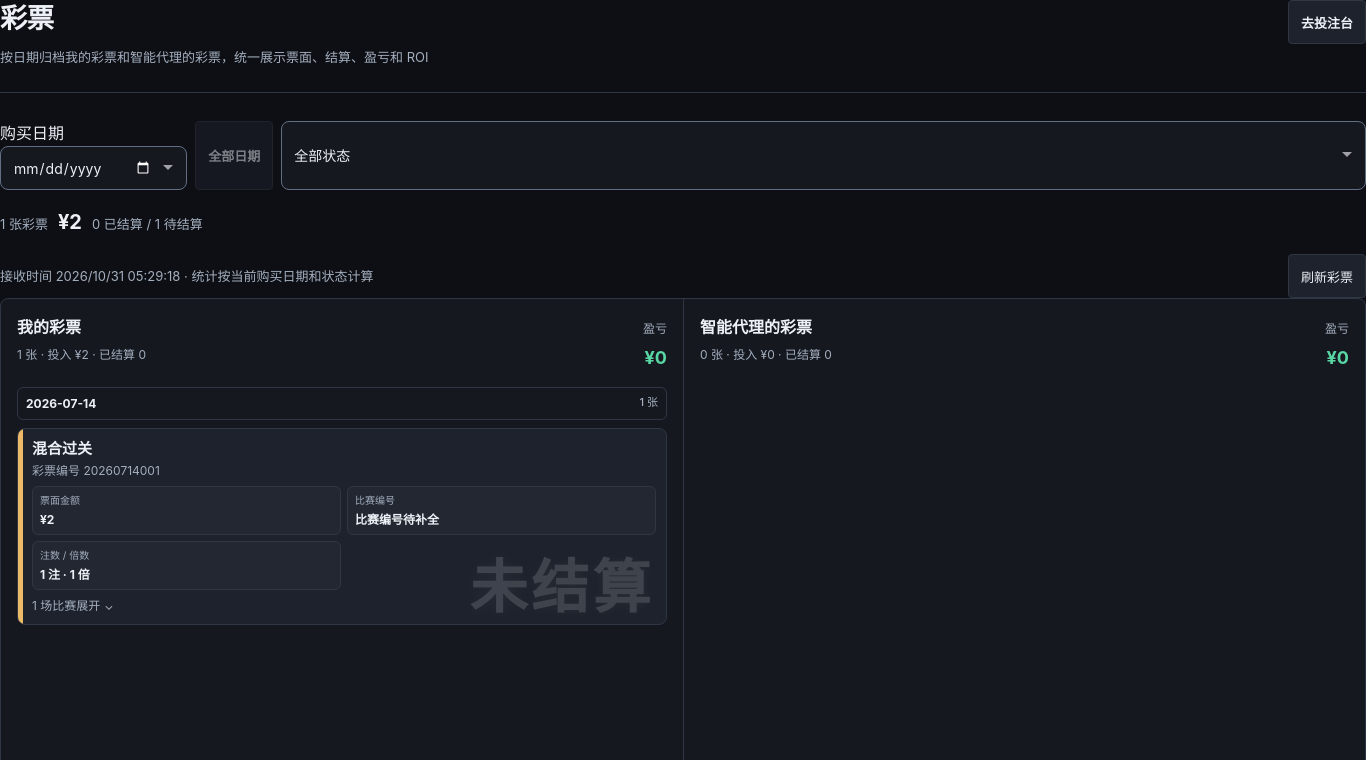
Test: TicketsPage query evidence › 坏分页统计被拒绝并保留旧票
This screenshot has width=1366, height=760.
Click the button "刷新彩票".
click(1327, 276)  # box [1288,254,1365,298]
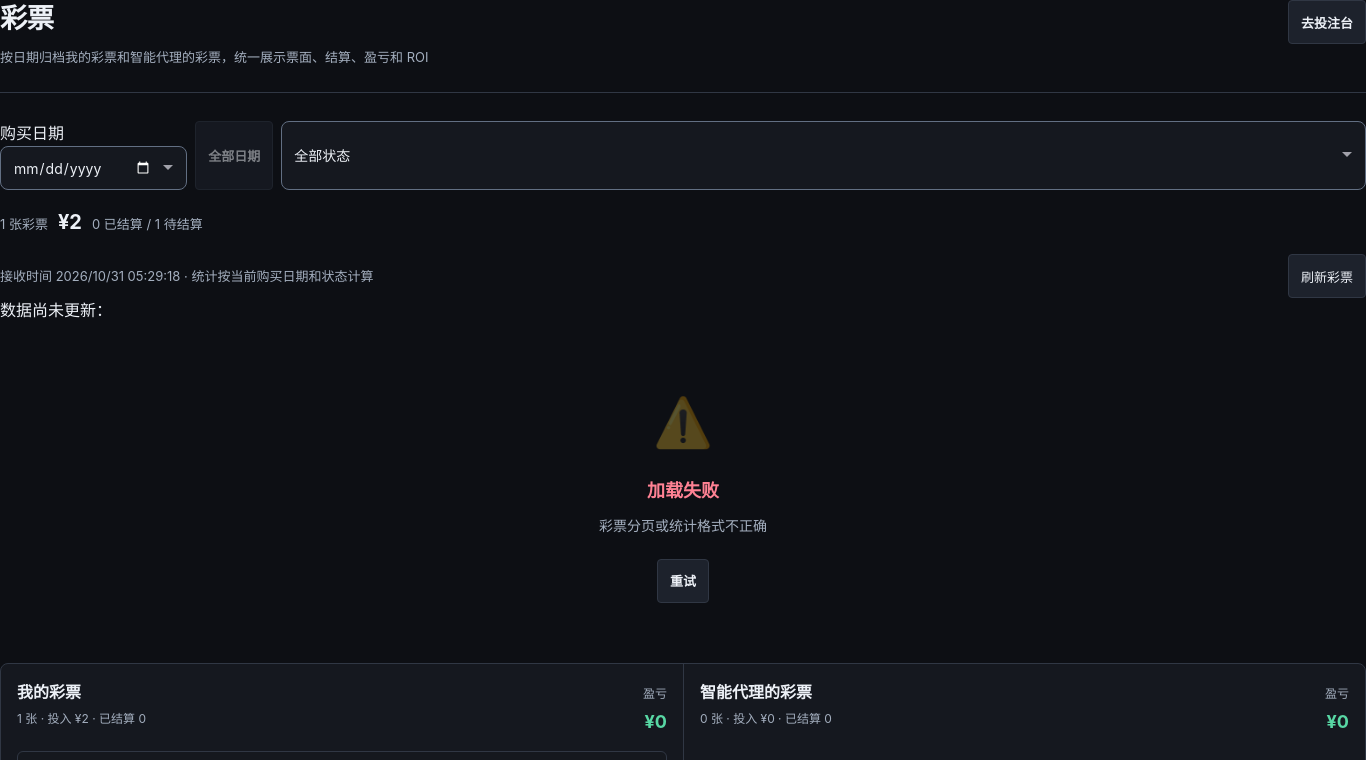
Expected: the text "彩票分页或统计格式不正确" is shown, [599,513,767,539]
